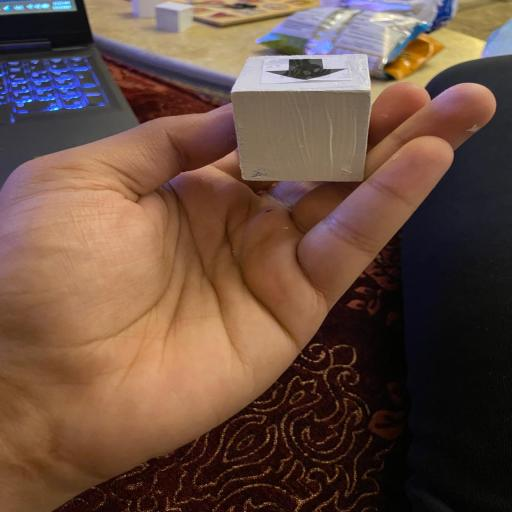Down: (230, 54, 372, 182)
